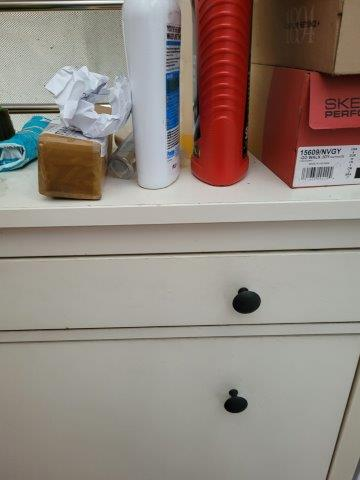kertas: (48, 67, 134, 135)
